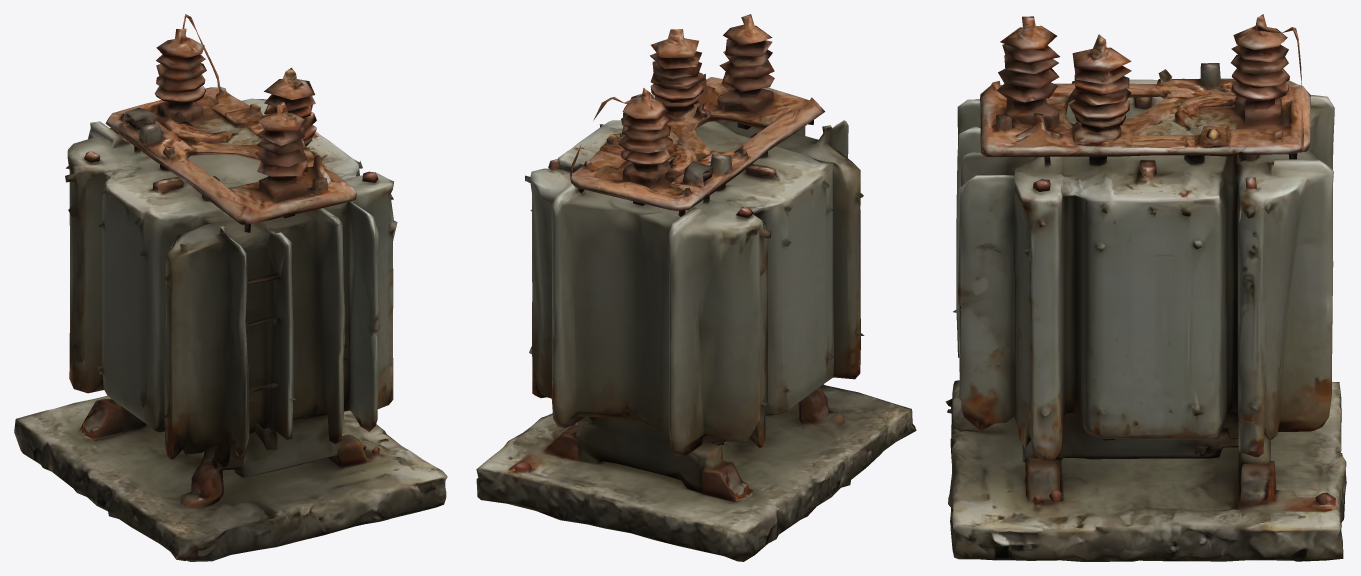
File: transformer.glb
The picture shows the model from 3 angles, left to right: view 1: azimuth 30°, elevation 25°; view 2: azimuth 150°, elevation 25°; view 3: azimuth 270°, elevation 25°; orthographic projection. The views are drawn at different scales.
Visible parts, largest first — view 1: tripo_node_cad87164-97ed-4f00-b0c2-8596b6c465f5; view 2: tripo_node_cad87164-97ed-4f00-b0c2-8596b6c465f5; view 3: tripo_node_cad87164-97ed-4f00-b0c2-8596b6c465f5.
Boxes of the visible parts, bbox=[...] form: tripo_node_cad87164-97ed-4f00-b0c2-8596b6c465f5: bbox=[14, 14, 447, 561]; tripo_node_cad87164-97ed-4f00-b0c2-8596b6c465f5: bbox=[476, 14, 916, 561]; tripo_node_cad87164-97ed-4f00-b0c2-8596b6c465f5: bbox=[945, 14, 1346, 561].
Bounding box in the file's own units: 0.6707 × 0.9691 × 0.7424.
Materials: 1 (1 with a texture image).
